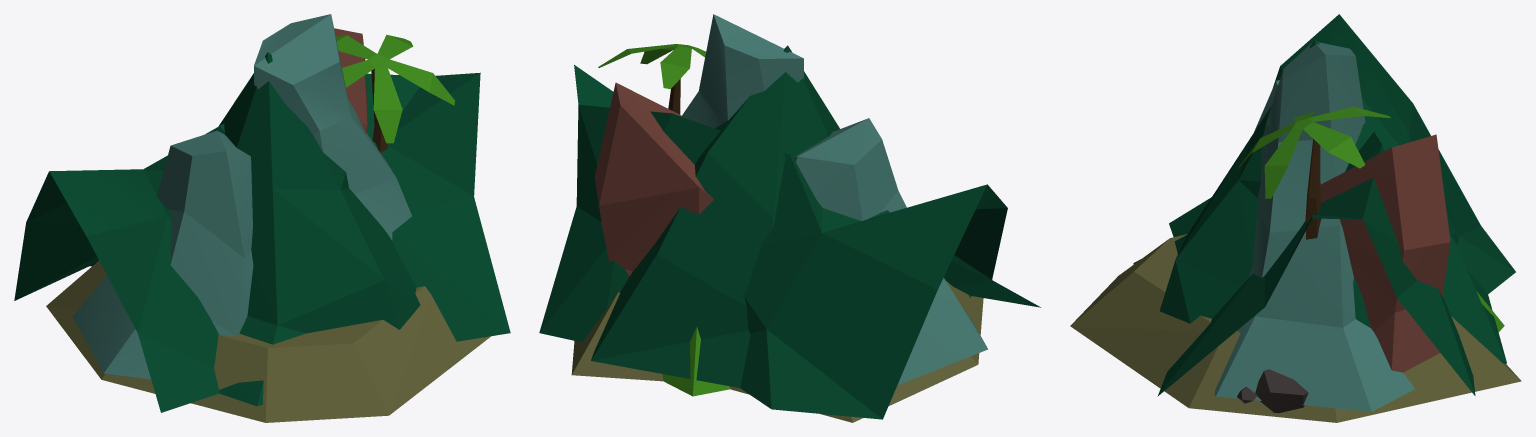
File: All.FBX
3 renders of one model, left to right at view 1: azimuth 30°, elevation 25°; view 2: azimuth 150°, elevation 25°; view 3: azimuth 270°, elevation 25°, orthographic. The views are drawn at different scales.
Visible parts, largest first — view 1: mtBig_connectA, coldBig_icebergA, mtBig_mountainA, seaBig_islandB, dryBig_rockB; view 2: mtBig_connectA, mtBig_mountainA, coldBig_icebergA, dryBig_rockB, seaBig_islandB, goodBig_lakeA; view 3: coldBig_icebergA, seaBig_islandB, mtBig_connectA, dryBig_rockB, mtBig_mountainA, goodBig_lakeA.
Part boxes in pixels (<box>): mtBig_connectA: <box>14,72,510,412</box>; coldBig_icebergA: <box>73,14,411,379</box>; mtBig_mountainA: <box>218,52,420,406</box>; seaBig_islandB: <box>46,34,490,422</box>; dryBig_rockB: <box>334,28,368,134</box>; mtBig_connectA: <box>539,65,1040,419</box>; mtBig_mountainA: <box>591,45,971,387</box>; coldBig_icebergA: <box>681,14,987,384</box>; dryBig_rockB: <box>594,82,713,276</box>; seaBig_islandB: <box>571,44,983,422</box>; goodBig_lakeA: <box>662,327,729,396</box>; coldBig_icebergA: <box>1214,41,1414,411</box>; seaBig_islandB: <box>1070,106,1521,422</box>; mtBig_connectA: <box>1157,14,1515,396</box>; dryBig_rockB: <box>1320,134,1450,372</box>; mtBig_mountainA: <box>1133,39,1506,363</box>; goodBig_lakeA: <box>1237,291,1504,413</box>.
Size of the model in its own units: 630 by 426 by 571.
